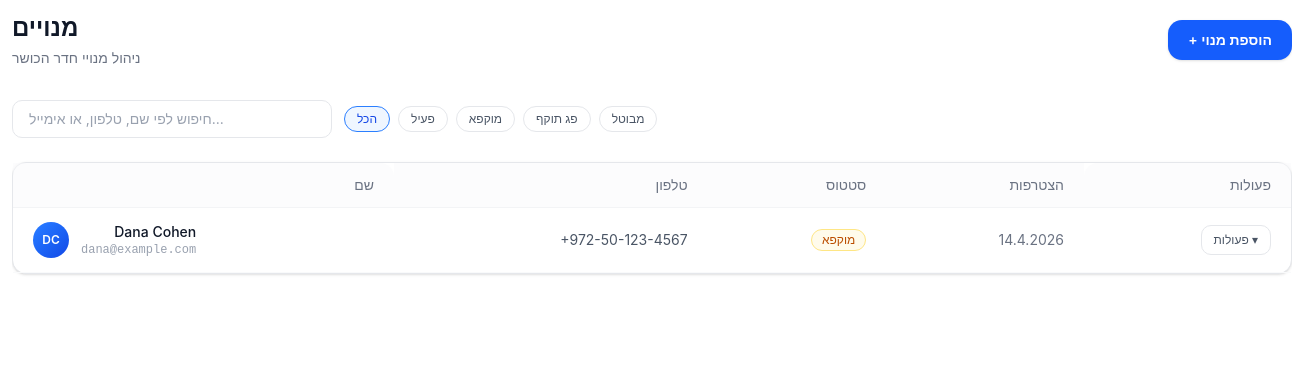
Scenario: MemberListPage › actions menu shows Unfreeze for frozen members
The image size is (1304, 386).
Step 1. Click the button "פעולות ▾" → (1236,240), box [1201,225,1271,255]
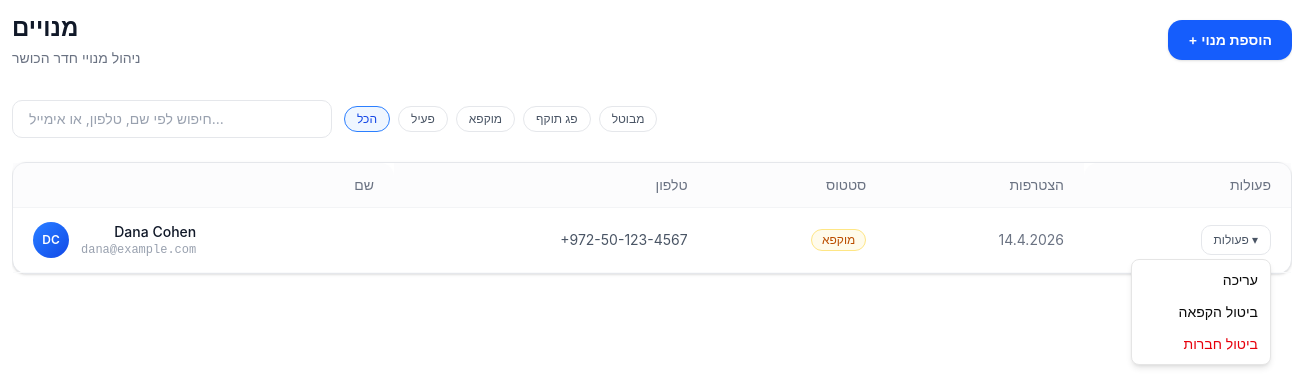
Result: the menu item "ביטול הקפאה" is shown at [1178,303,1258,320]
